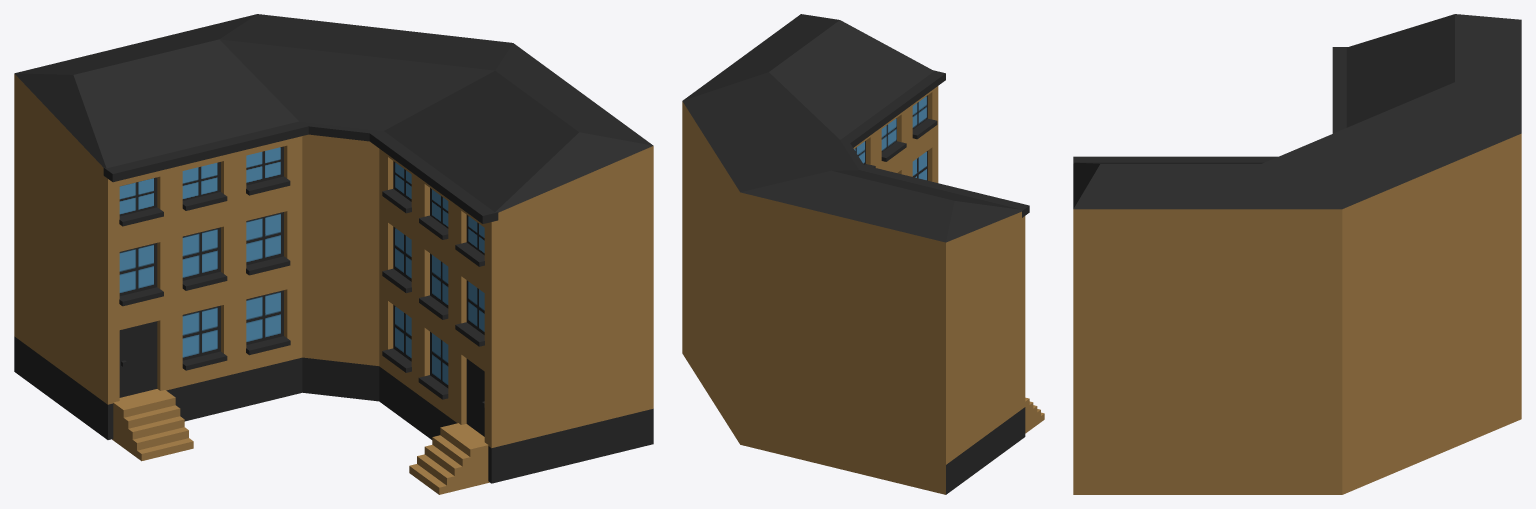
Rendered from JazzAngle2.obj.
The picture shows the model from 3 angles, left to right: view 1: azimuth 30°, elevation 25°; view 2: azimuth 150°, elevation 25°; view 3: azimuth 270°, elevation 25°; orthographic projection. The views are drawn at different scales.
Visible parts, largest first — view 1: RogZwykly.001; view 2: RogZwykly.001; view 3: RogZwykly.001.
Boxes of the visible parts, x1=… form: RogZwykly.001: x1=14, y1=14, x2=653, y2=494; RogZwykly.001: x1=682, y1=14, x2=1044, y2=494; RogZwykly.001: x1=1073, y1=14, x2=1521, y2=494.
Size of the model in its own units: 12.51 by 9.37 by 12.51.
